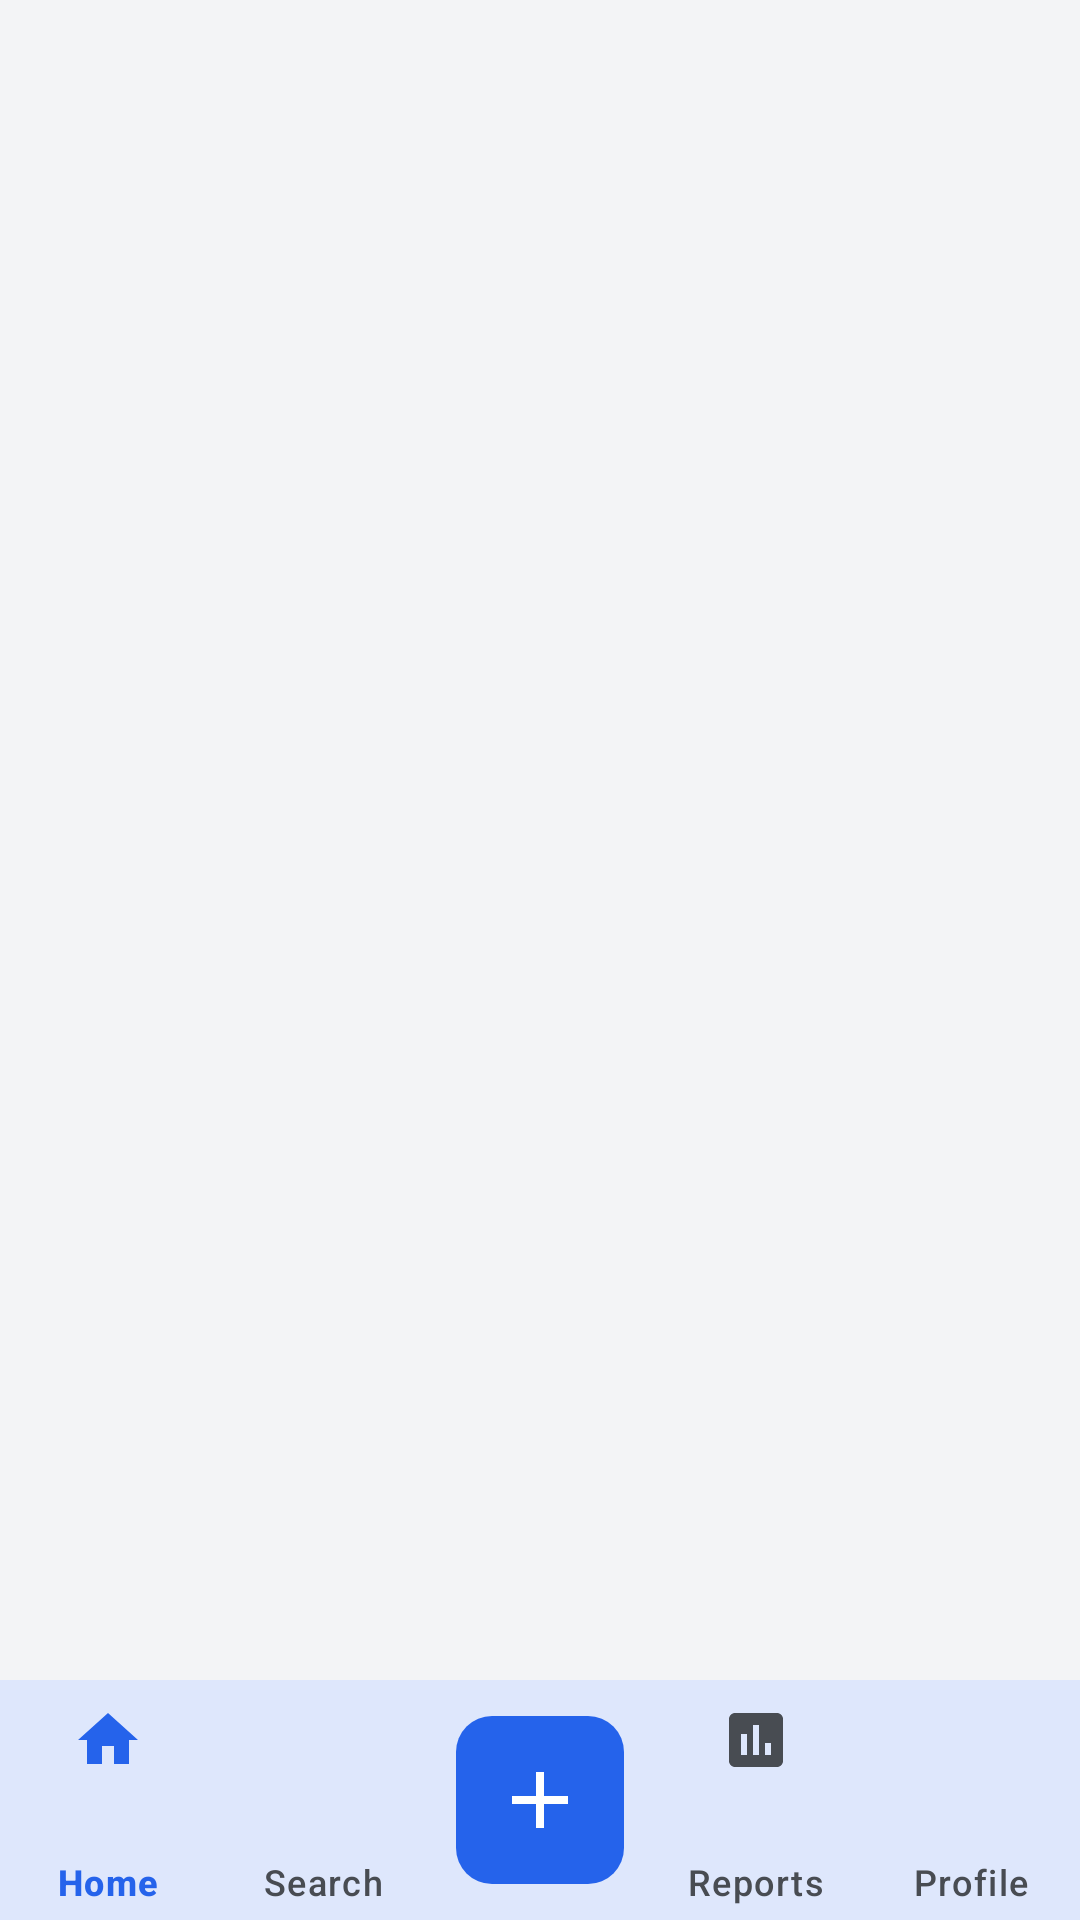

Where to tap for icons on this 1080x1920 app screen, as [x,y]:
Add Supply: [540,1818]
